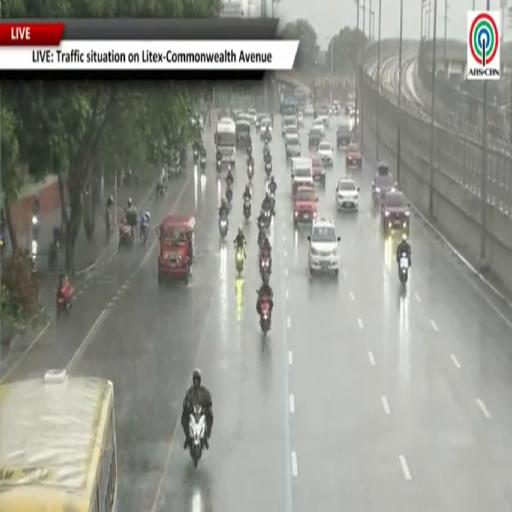bus: (0, 371, 117, 511), (215, 119, 236, 165), (294, 88, 311, 107), (280, 100, 297, 117)
car: (308, 219, 340, 276), (381, 190, 410, 235), (294, 186, 318, 225), (336, 179, 359, 211), (372, 173, 396, 203), (336, 123, 352, 149), (346, 143, 362, 169), (312, 156, 326, 185), (318, 141, 333, 167), (309, 127, 323, 150), (286, 135, 300, 157), (315, 104, 329, 126), (282, 116, 296, 136), (260, 118, 272, 140), (255, 113, 269, 131), (312, 118, 324, 134), (285, 125, 299, 138), (235, 112, 251, 123), (315, 115, 329, 127), (377, 162, 390, 174), (248, 109, 257, 124), (231, 109, 243, 120), (304, 104, 314, 117), (345, 102, 354, 116), (333, 101, 341, 115), (297, 111, 304, 127)
motorcycle: (189, 405, 206, 468), (57, 281, 74, 316), (119, 223, 135, 248), (260, 298, 270, 335), (259, 251, 271, 281), (48, 242, 58, 271), (399, 253, 408, 284), (105, 207, 112, 242), (236, 247, 244, 277), (218, 216, 228, 239), (32, 215, 40, 239), (140, 222, 148, 245), (258, 228, 266, 250), (243, 198, 251, 220), (258, 216, 267, 234), (264, 210, 272, 229), (270, 190, 275, 215), (157, 183, 165, 198), (265, 162, 272, 178), (226, 185, 232, 203), (248, 164, 254, 181), (263, 139, 269, 156), (201, 156, 206, 173), (217, 159, 222, 173), (194, 150, 198, 164)
tricycle: (158, 215, 195, 284)
